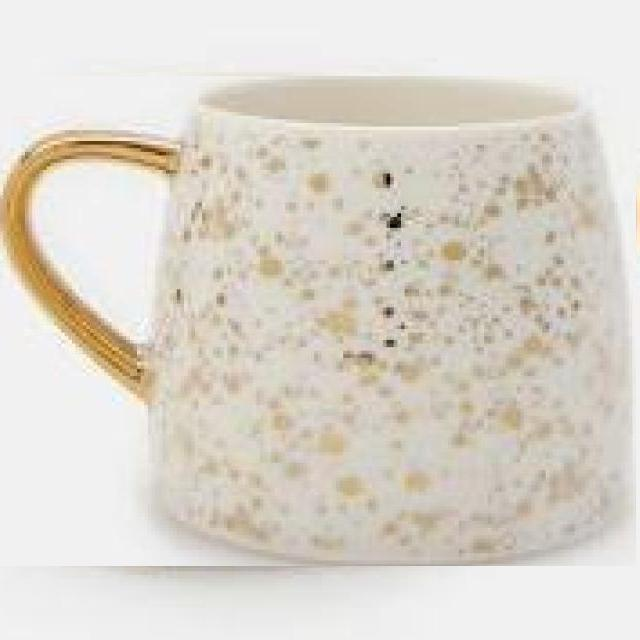Coffee Mug: (0, 71, 640, 566)
